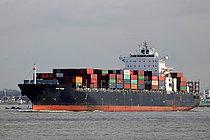Ship: (16, 39, 204, 114)
